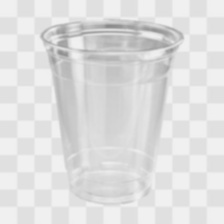glass: (34, 10, 190, 207)
